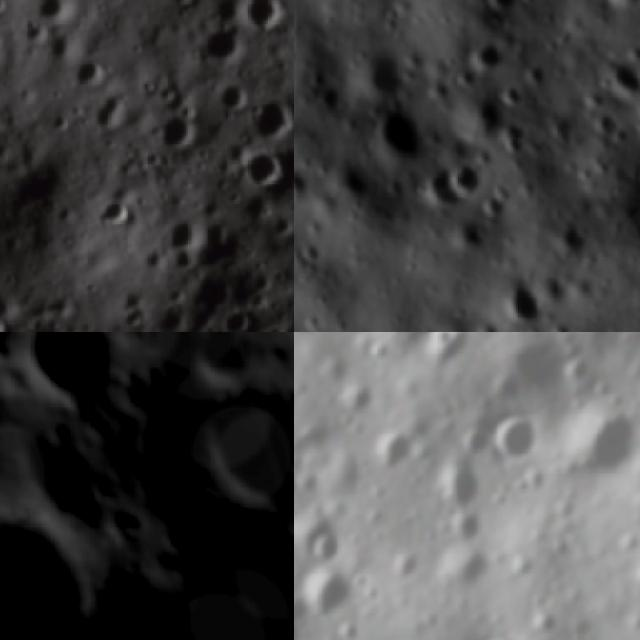crater: (176, 344, 294, 549), (9, 402, 126, 552), (0, 489, 116, 640), (6, 332, 134, 422), (550, 379, 640, 493), (422, 439, 508, 525), (294, 543, 373, 632), (429, 526, 509, 606), (481, 397, 559, 475), (363, 415, 430, 483), (295, 508, 360, 573), (331, 364, 395, 428), (361, 44, 423, 103), (372, 103, 432, 161), (145, 102, 204, 158), (494, 274, 553, 330), (331, 151, 382, 206), (191, 24, 249, 71), (163, 204, 214, 256), (231, 145, 287, 192), (248, 86, 294, 142), (448, 617, 551, 640), (449, 160, 495, 201), (205, 79, 251, 119), (239, 0, 293, 34), (68, 51, 119, 87), (416, 166, 459, 208), (597, 53, 640, 95), (94, 190, 136, 230), (472, 39, 512, 76), (21, 0, 70, 29), (419, 332, 467, 361), (505, 80, 542, 114), (548, 106, 582, 140), (501, 123, 539, 152), (294, 167, 323, 202), (588, 110, 625, 136), (528, 60, 558, 86), (155, 0, 209, 14), (484, 0, 527, 17)
